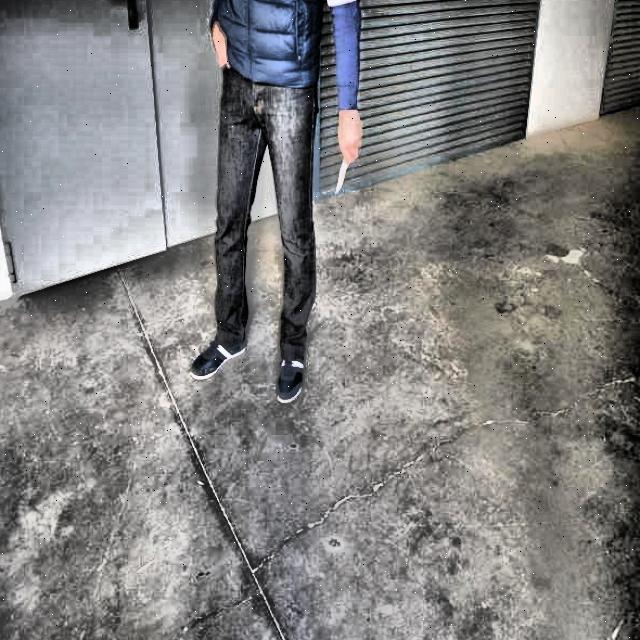knife: (336, 159, 349, 193)
